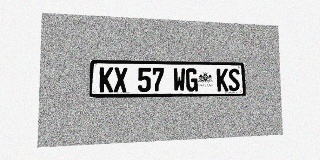5: (138, 68, 151, 92)
7: (151, 68, 164, 92)
G: (186, 68, 198, 92)
K: (99, 67, 113, 92), (217, 68, 228, 91)
S: (228, 69, 240, 91)
W: (173, 68, 185, 92)
X: (114, 67, 127, 92)
